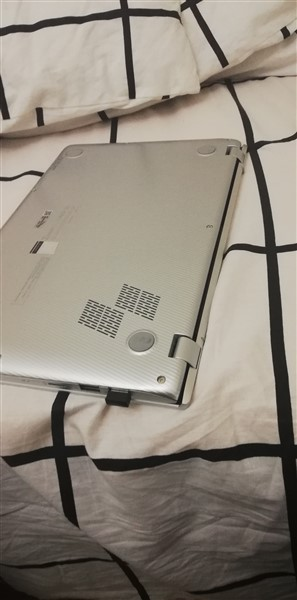laptop: (1, 133, 258, 410)
